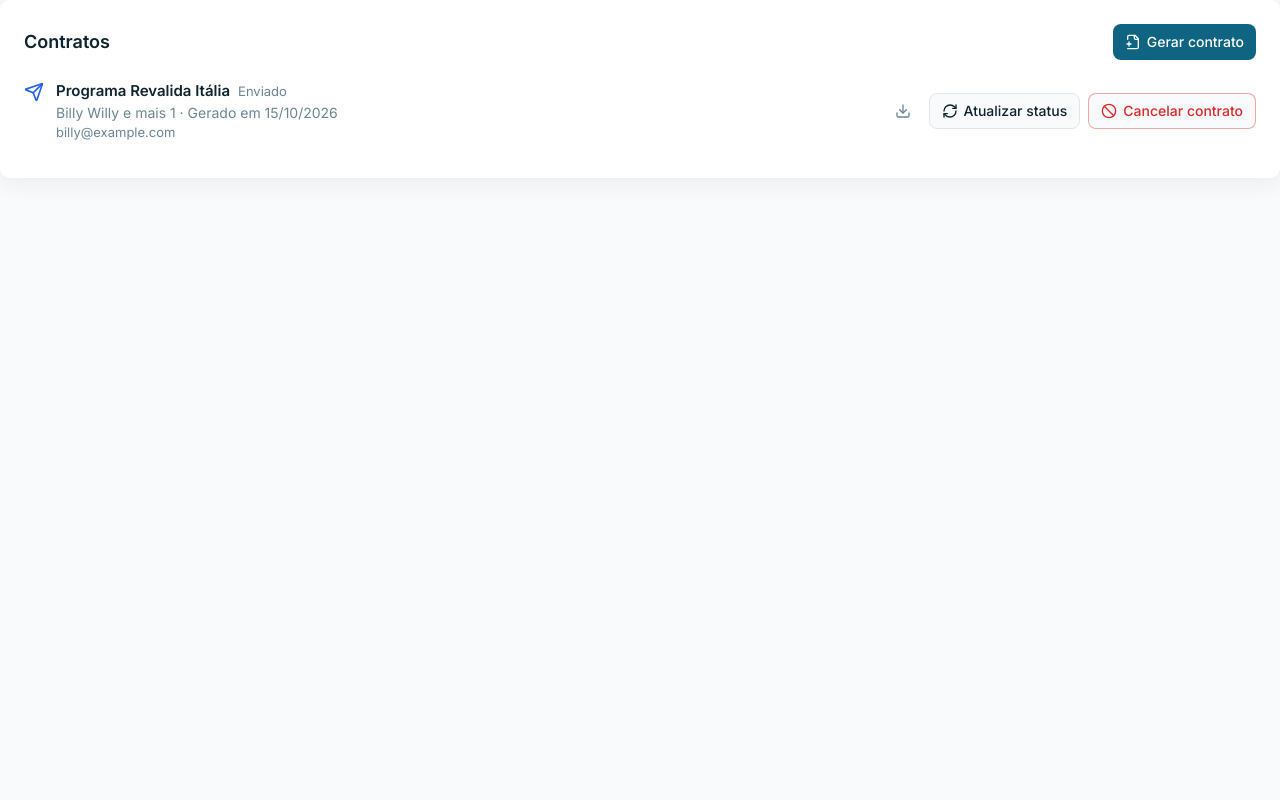
it: Contratos list › Voltar in the cancel dialog does nothing
This screenshot has width=1280, height=800.
Click the button "Cancelar contrato": (1172, 111) 1088,93 -> 1256,129
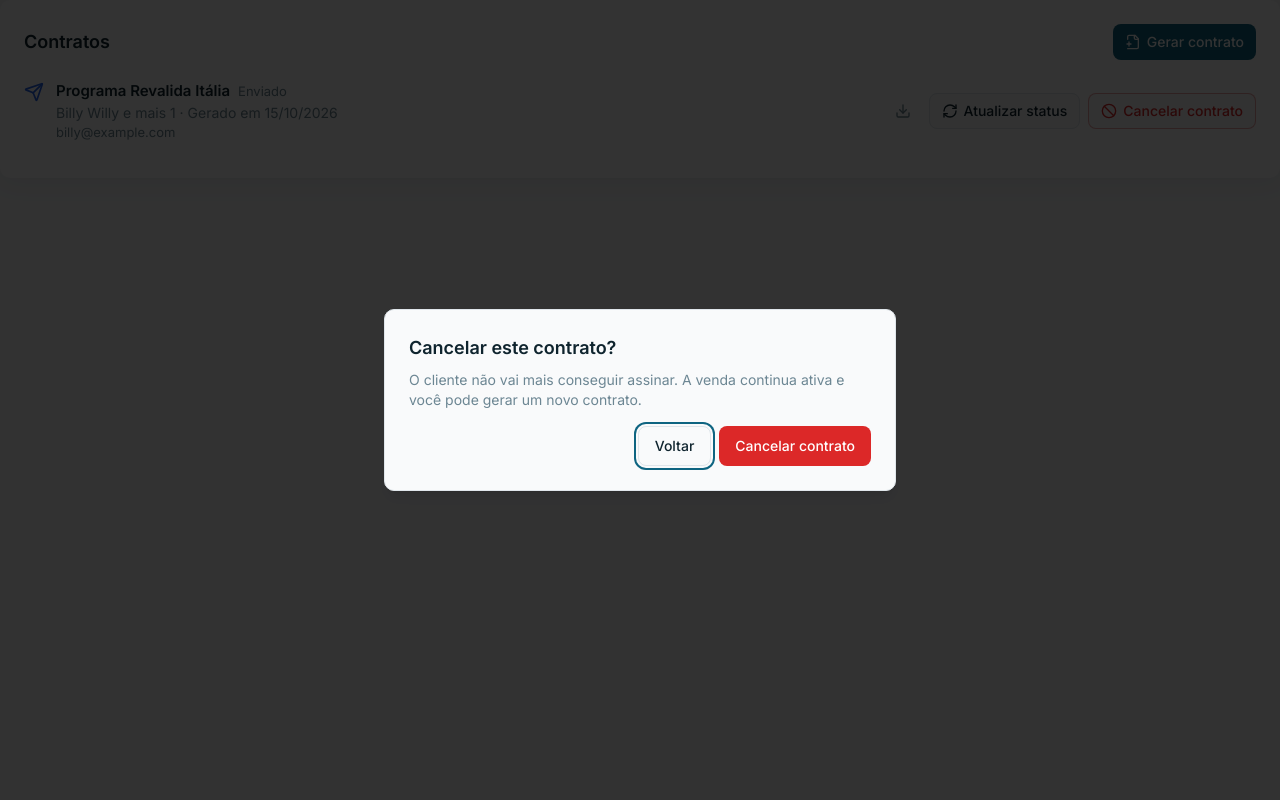
Expected: the dialog shows "Cancelar este contrato?", 409,337 -> 616,358
Expected: the dialog shows "O cliente não vai mais conseguir assinar. A venda continua ativa e você pode gerar um novo contrato.", 409,371 -> 844,408
Click the button "Voltar": (675, 446) 638,426 -> 711,466
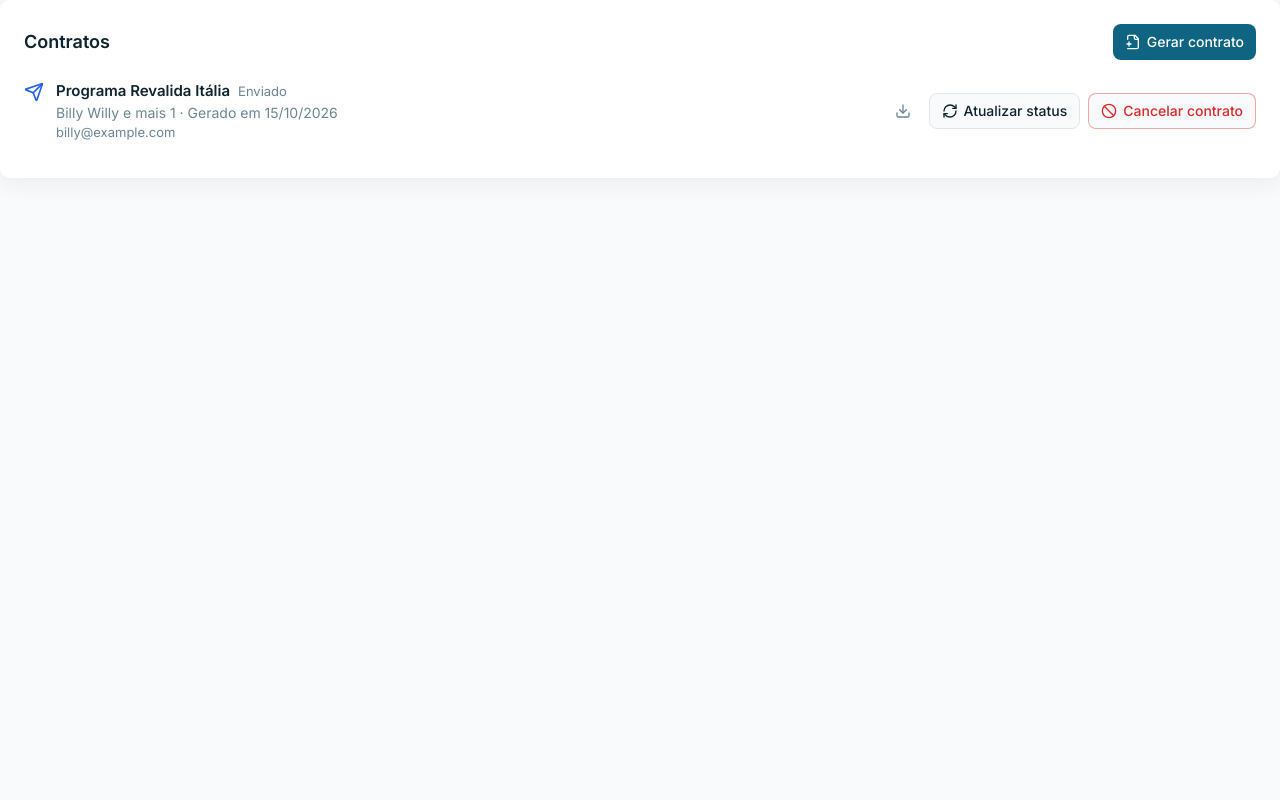
Expected: the text "Enviado" is shown, 238,82 -> 287,102
Expected: the dialog is gone
